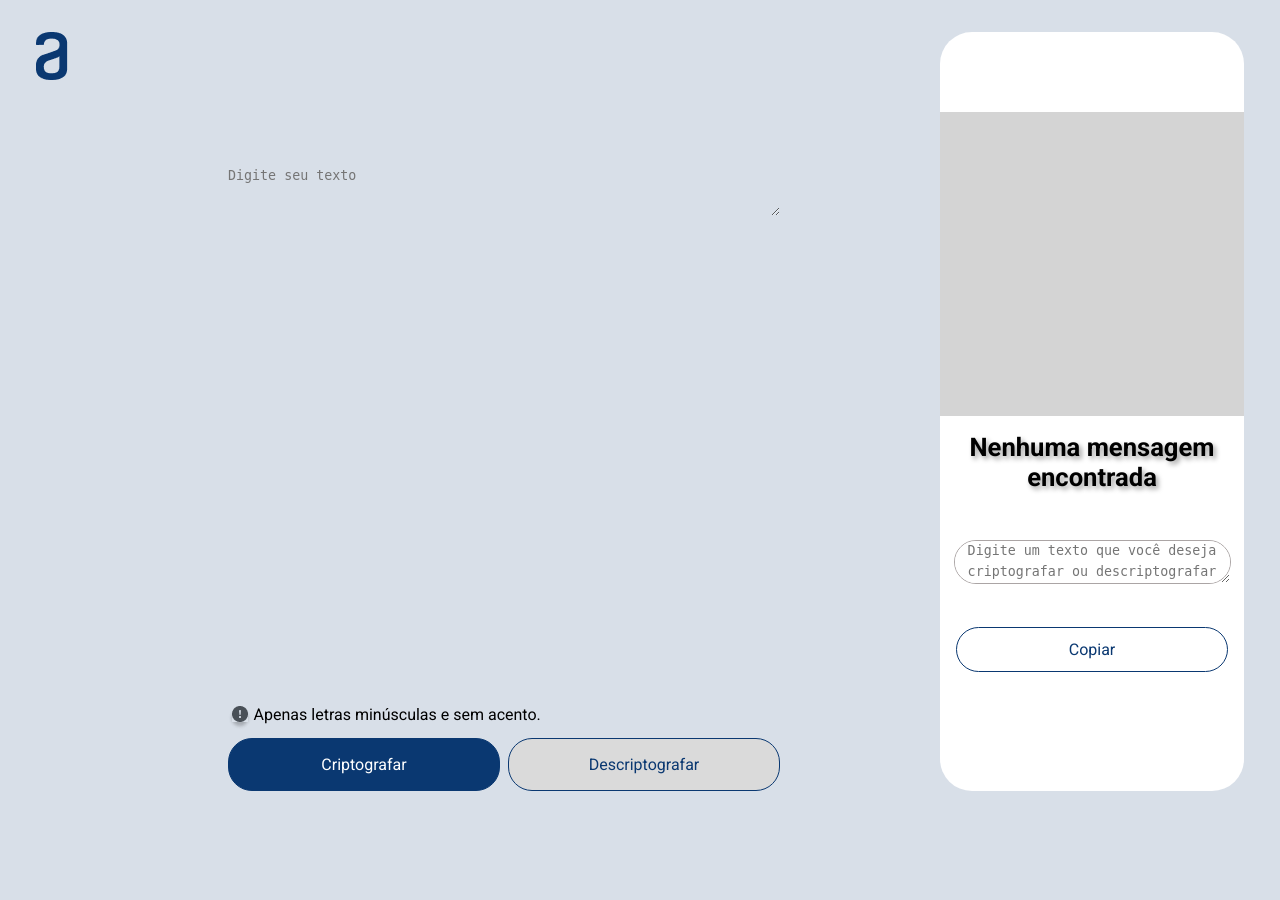
Test case: App Component › Deve descriptografar o texto corretamente quando o campo de entrada for válido
Simula a entrada de um texto criptografado
Type "ifmmp!xpsme" into the text box with placeholder "Digite seu texto" at (504,192), box [228,168,780,216]
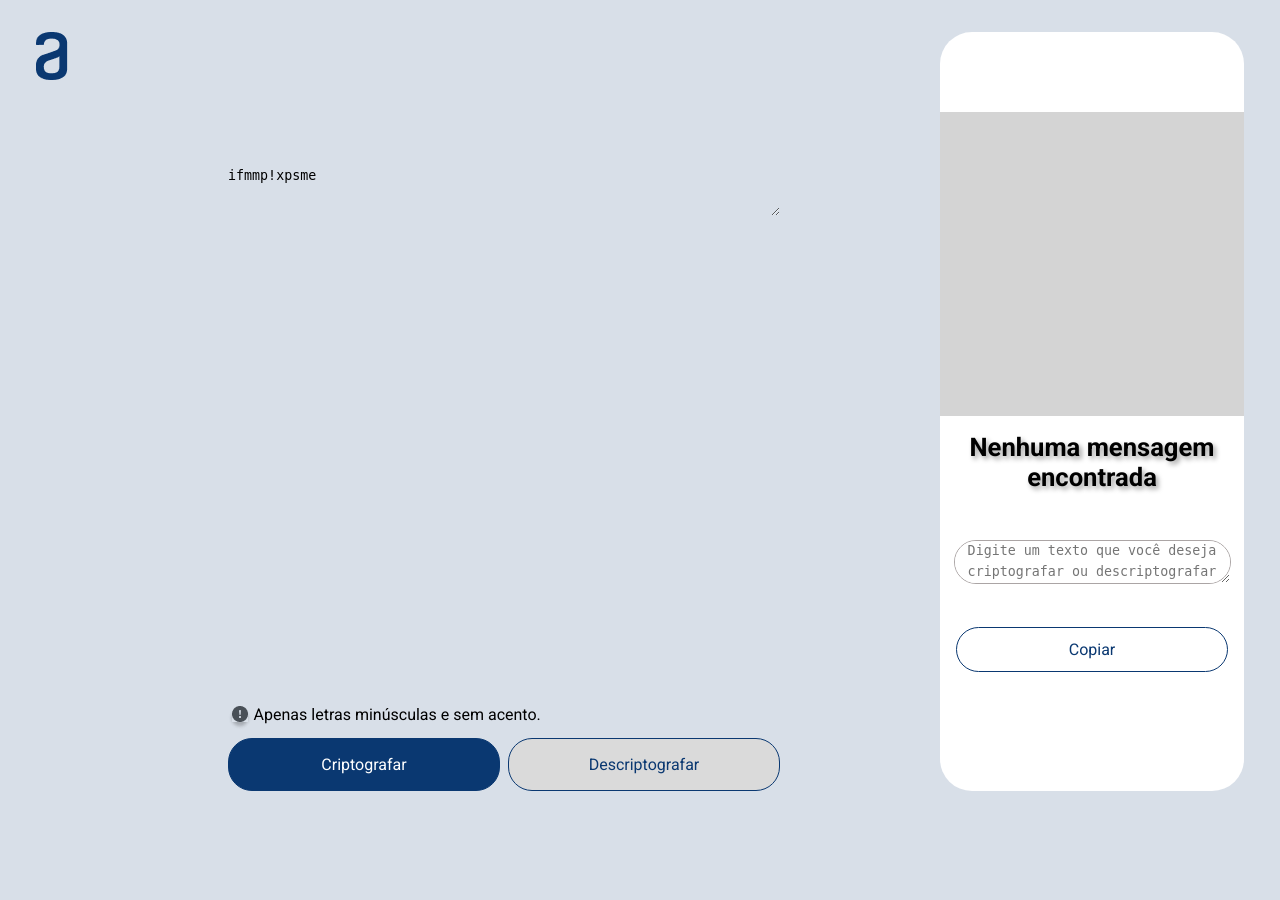
Simula o clique no botão de descriptografar usando data-testid
Click the button "Descriptografar" at (644,765), box [508,738,780,791]
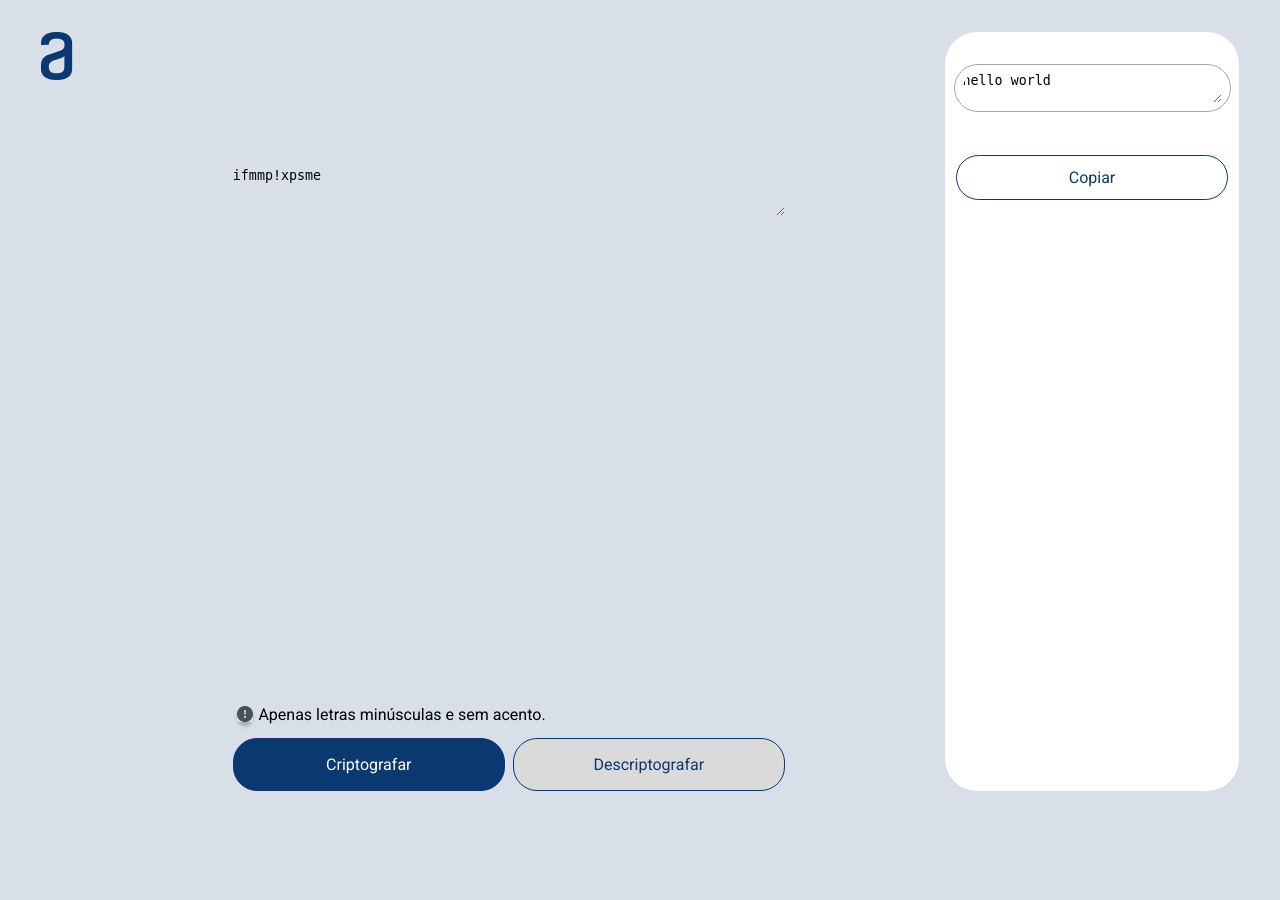
Result: the 1st text box showing "hello world" is shown at [962,73,1222,103]
